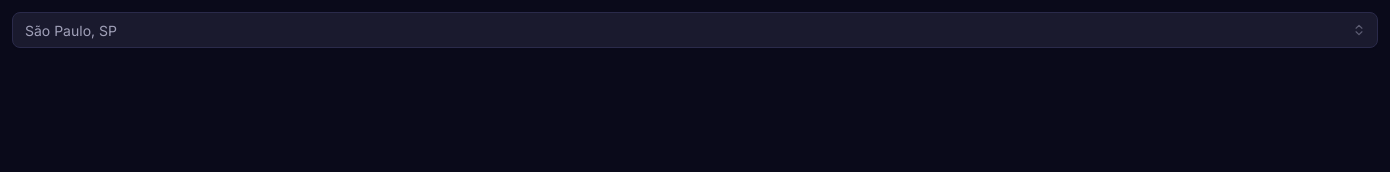
Test: CityCombobox › validação — cidade inválida › exibe erro ao sair do campo com texto que não é cidade
Type "Cidade Inexistente XYZ" into the field with placeholder "São Paulo, SP". click: (695, 30)
box: left=12, top=12, right=1378, bottom=48
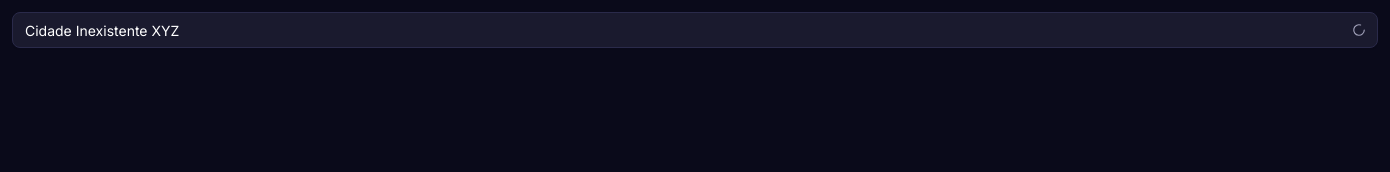
Leave the field with placeholder "São Paulo, SP", box left=12, top=12, right=1378, bottom=48
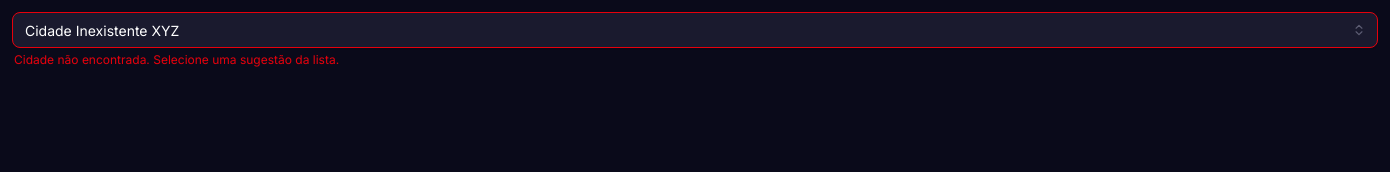
Expected: the message shows "Cidade não encontrada", left=14, top=52, right=339, bottom=67
